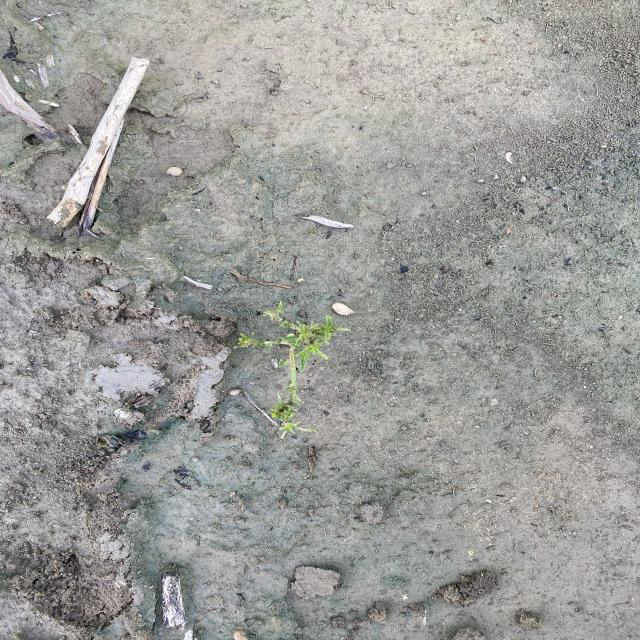Waterhemp: (233, 300, 353, 437)
